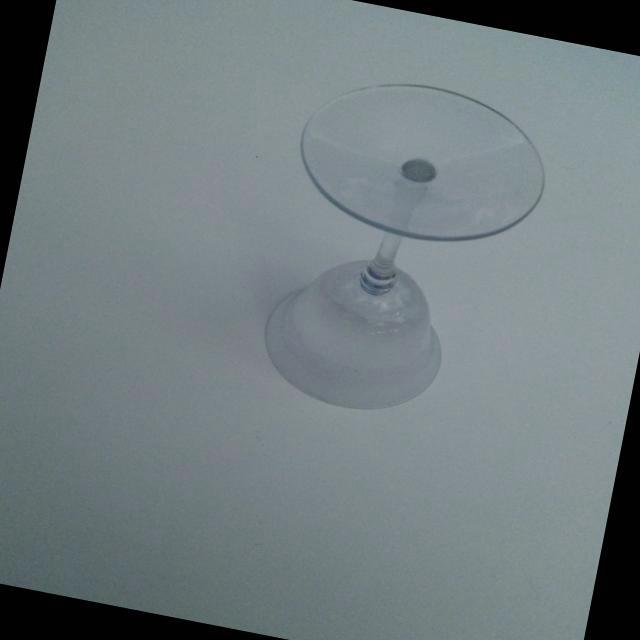glass: (219, 42, 576, 450)
